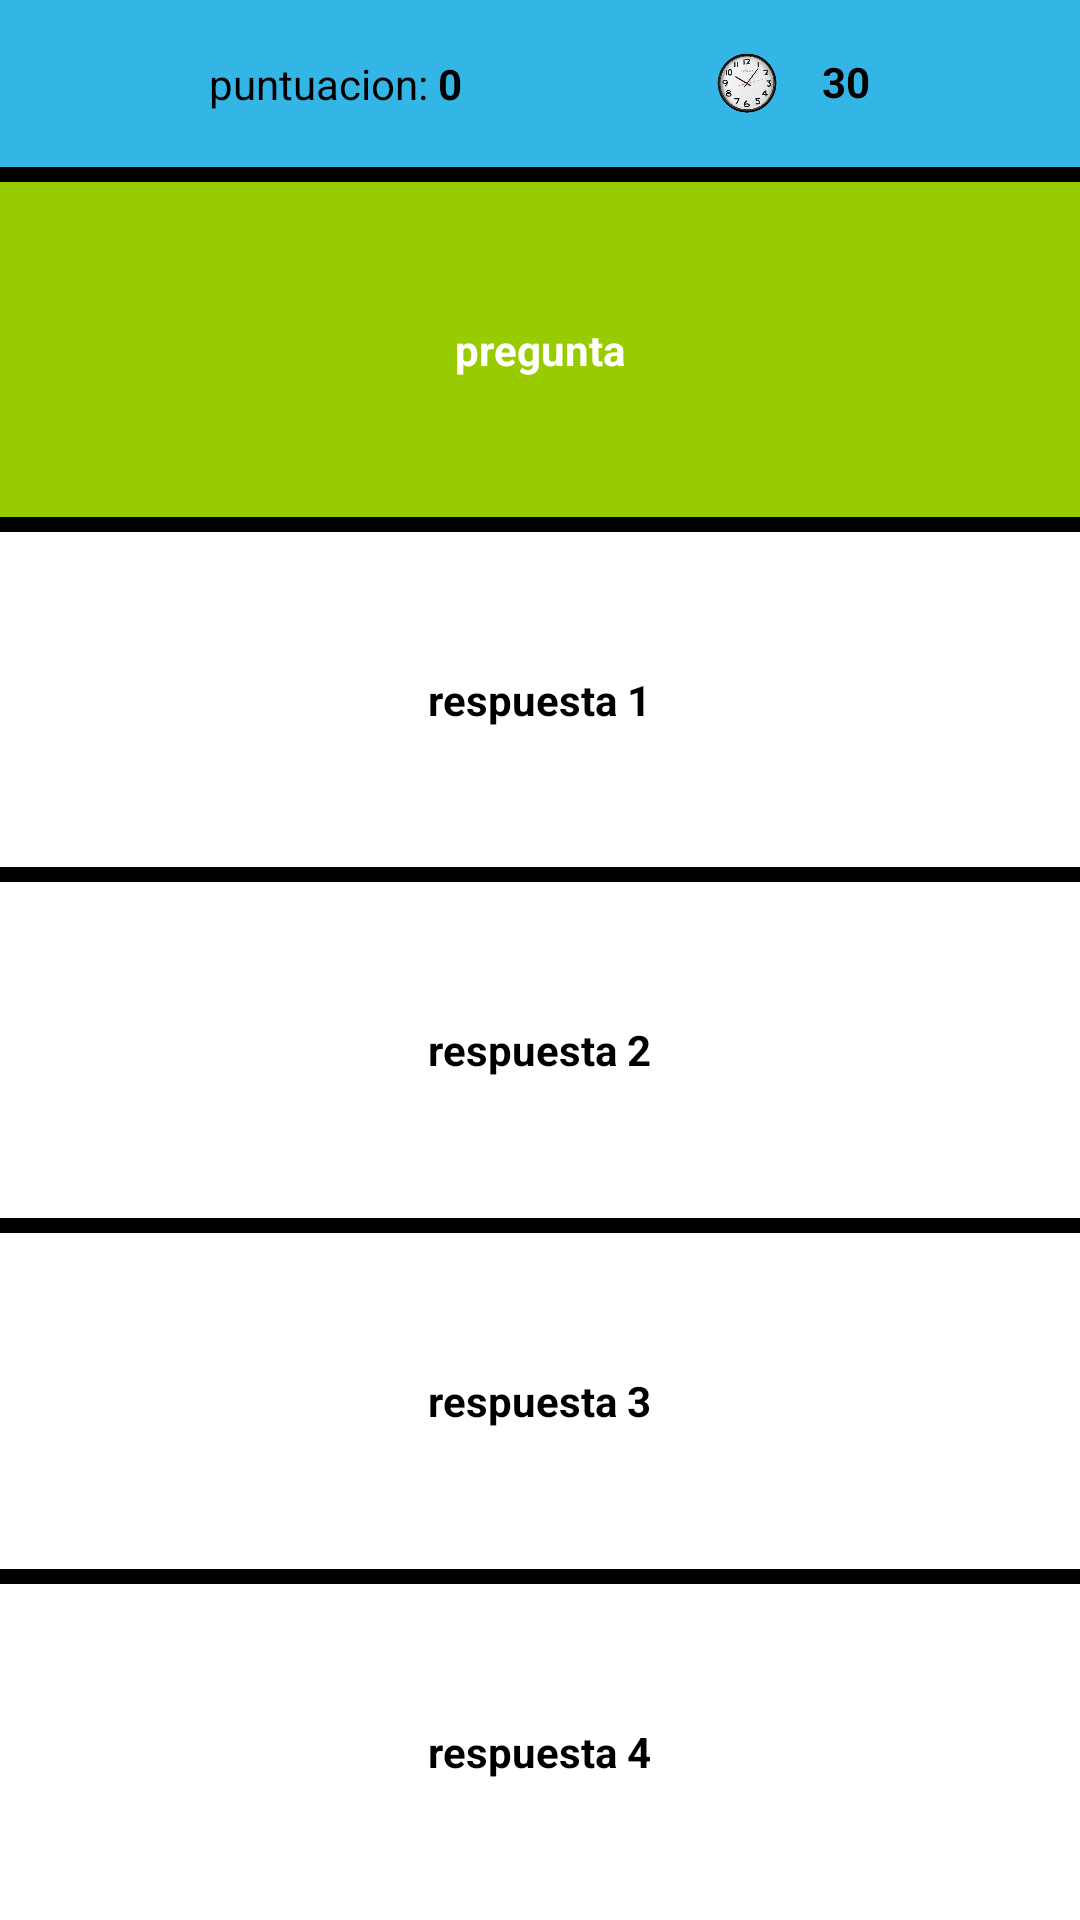

Icons on this 1080×1920 Android screen, each with its box as (x1, y1, x2, y2):
reloj: (717, 53, 777, 113)
